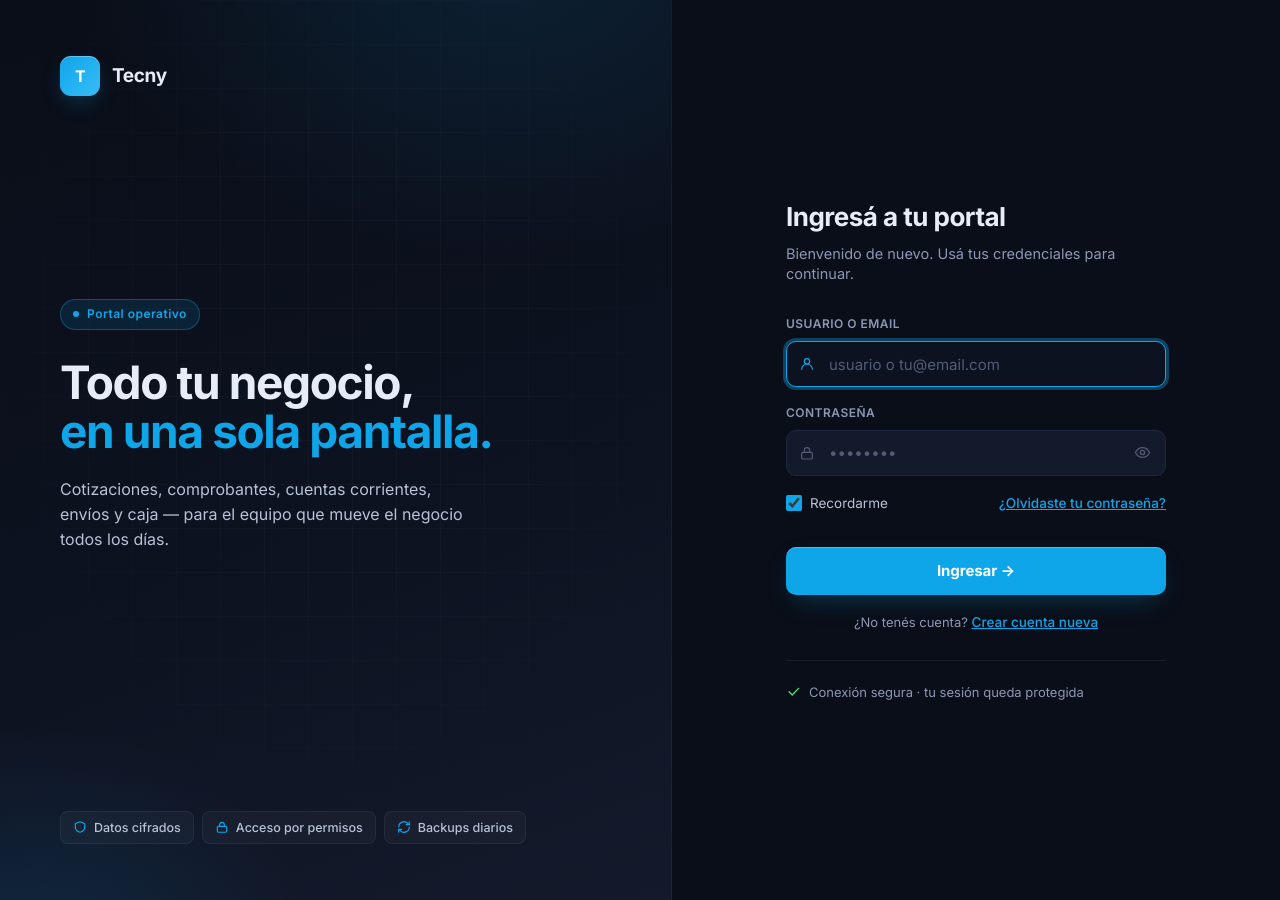
Test: Login — toggle ojito + flow 2FA › cuando el backend pide 2FA, oculta inputs iniciales y muestra input de código
The width and height of the screenshot is (1280, 900).
Type "lucas" into the field labelled "Usuario o email". click: (976, 364)
box: 786,341 -> 1166,387
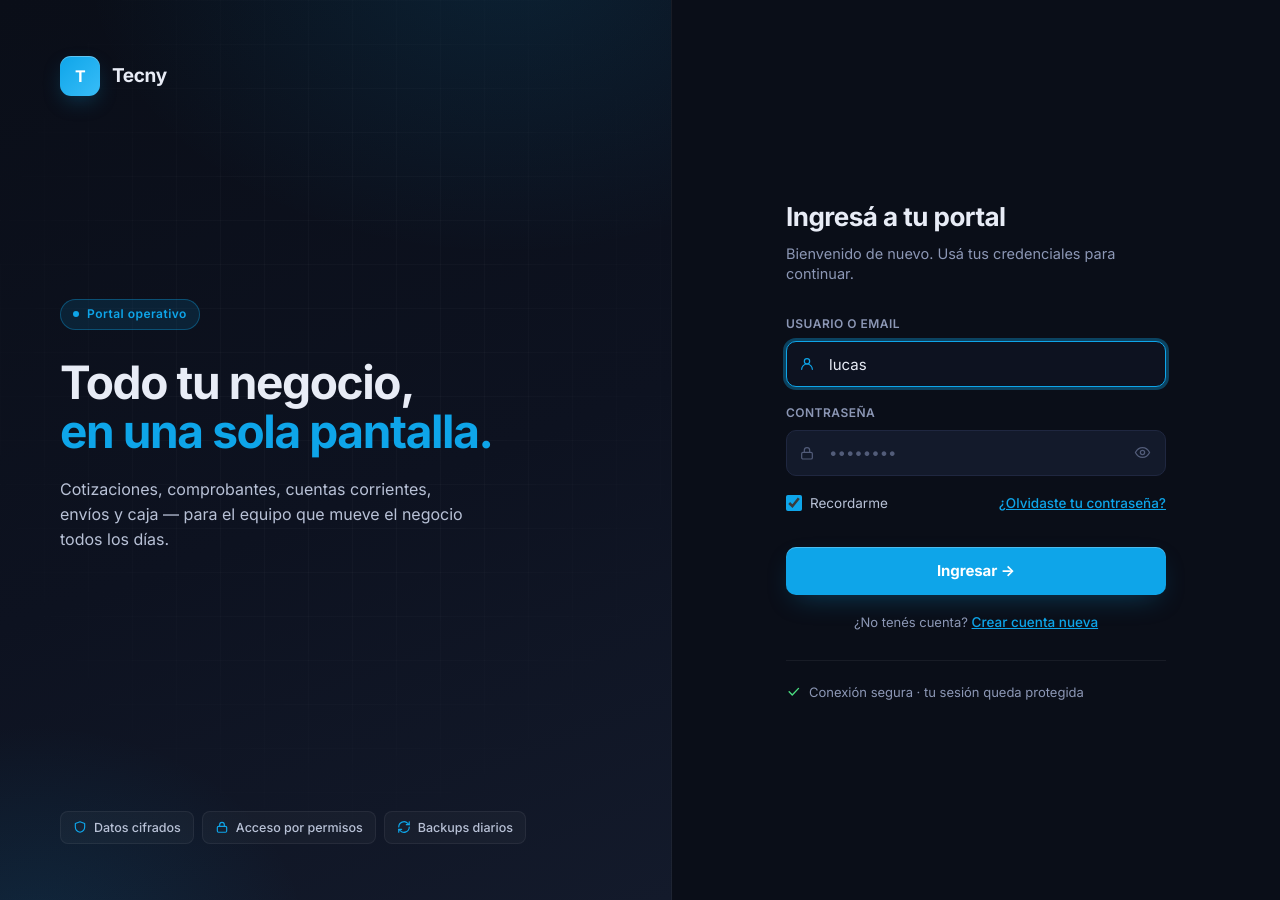
Type "pass123" into the password field with placeholder "••••••••". click: (976, 453)
box: 786,430 -> 1166,476
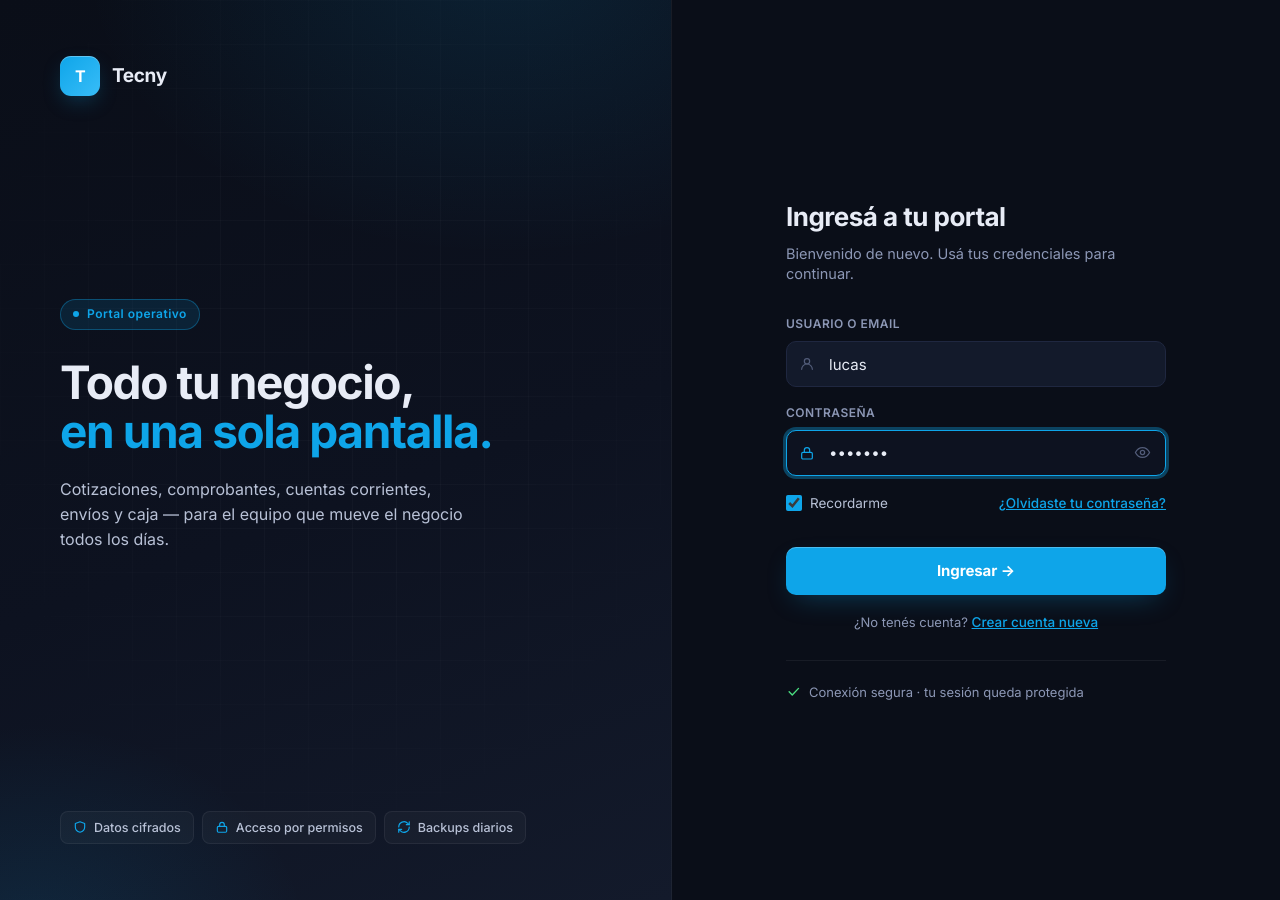
Click the button "Ingresar →". click: (976, 571)
box: 786,547 -> 1166,595
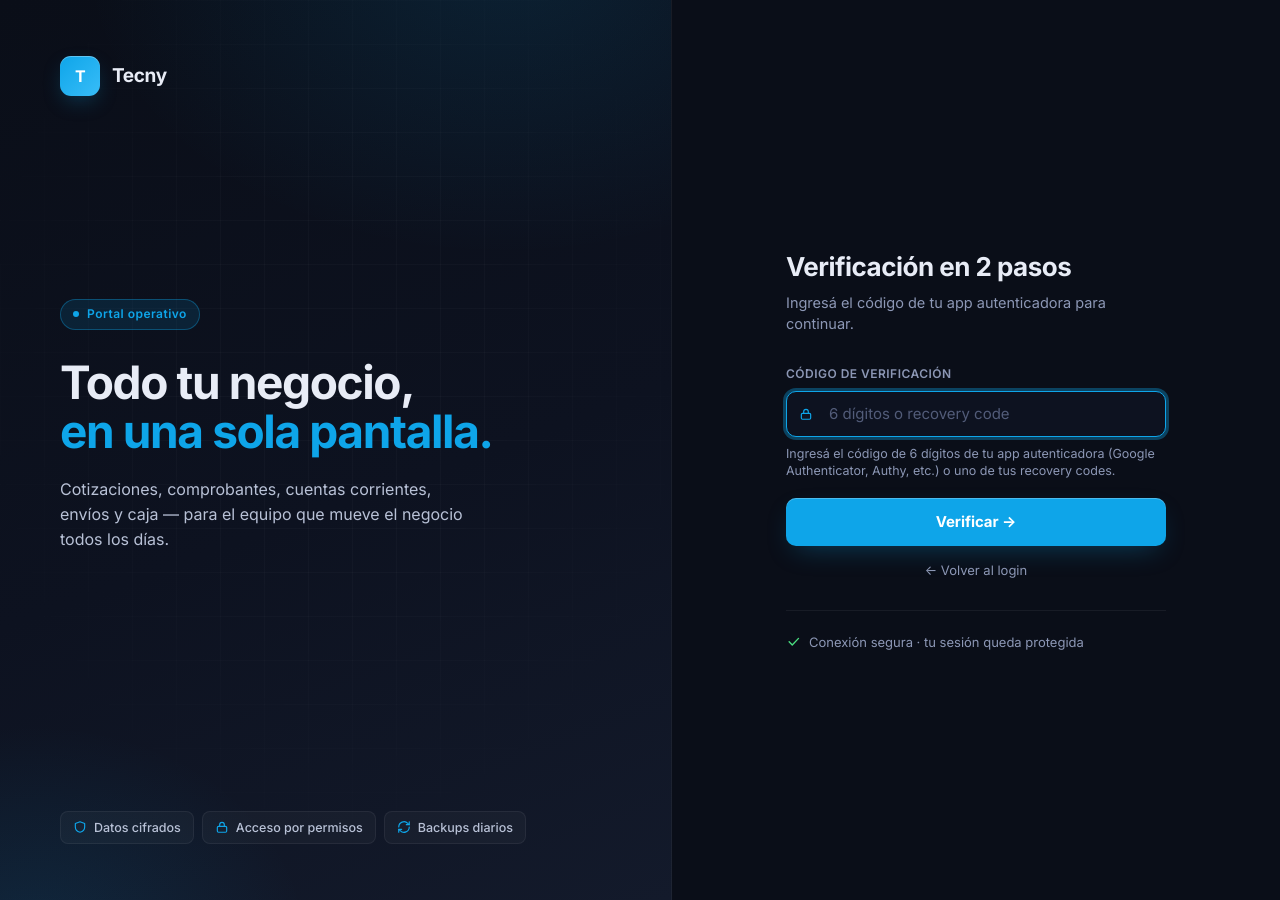
Check: the heading "Verificación en 2 pasos" is shown, box 786,251 -> 1071,282
Check: the field labelled "Código de verificación" is shown, box 786,391 -> 1166,437
Check: the label labelled "Usuario o email" is gone
